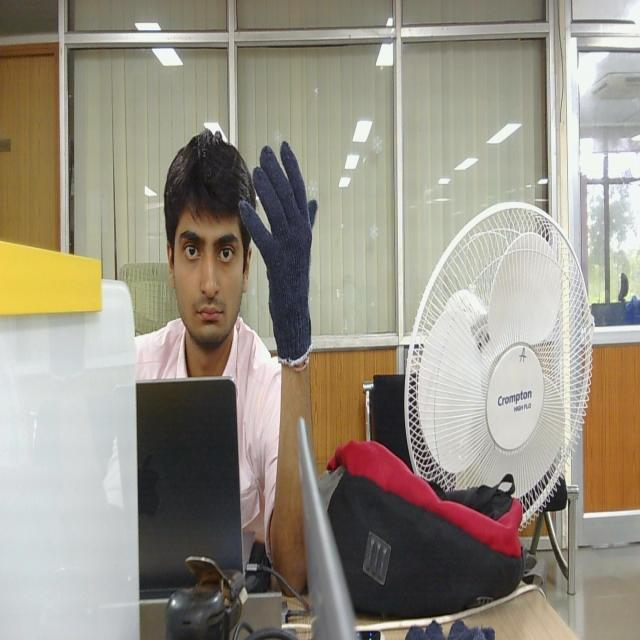Gloves-Detection: (238, 136, 320, 362)
